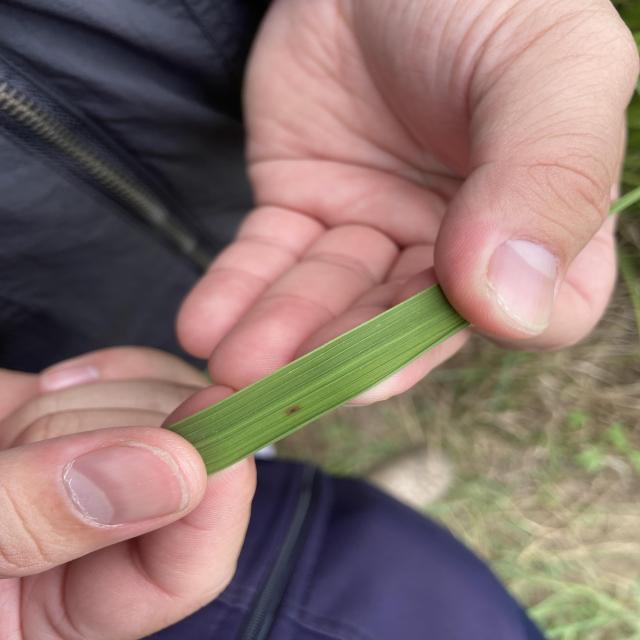Dao on: (286, 405, 302, 416)
